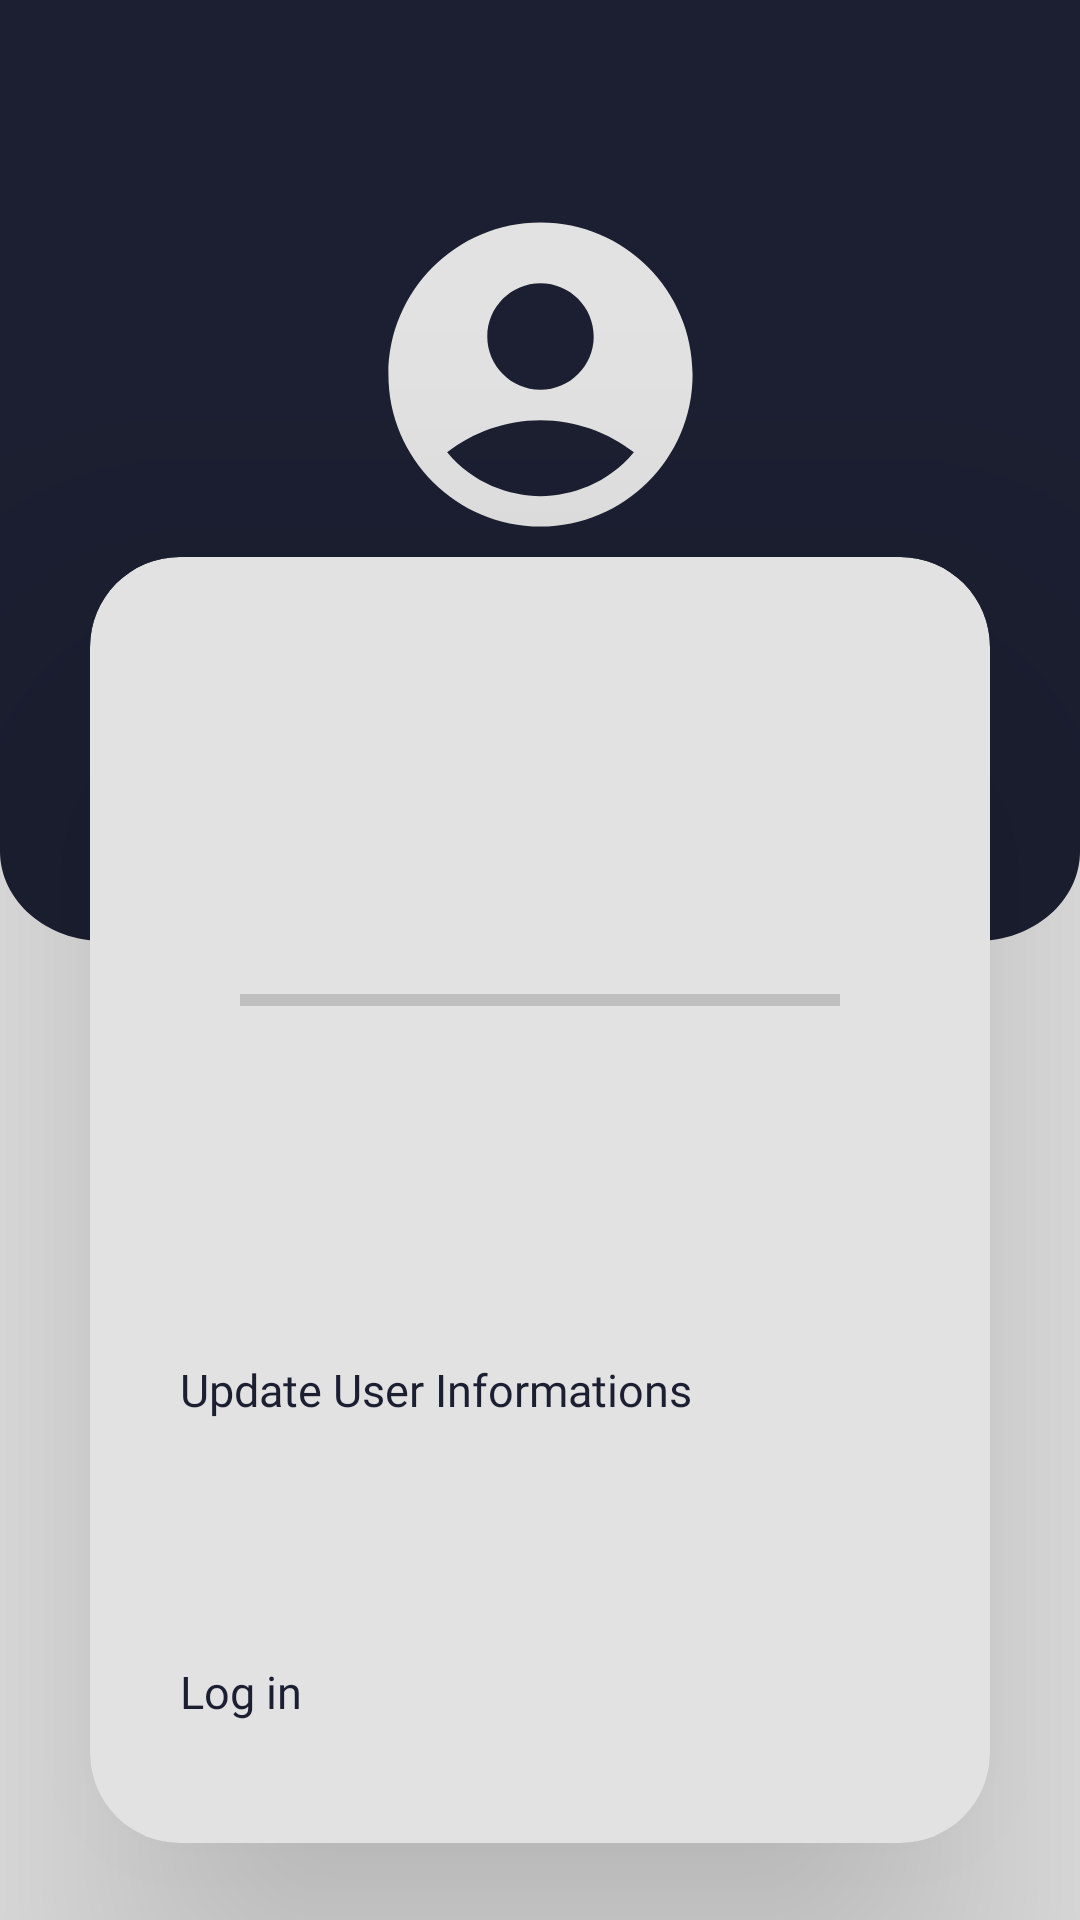

Icons on this 1080*1920 Android screen, each with the point to tap as [x,y]:
profile: [540,374]
